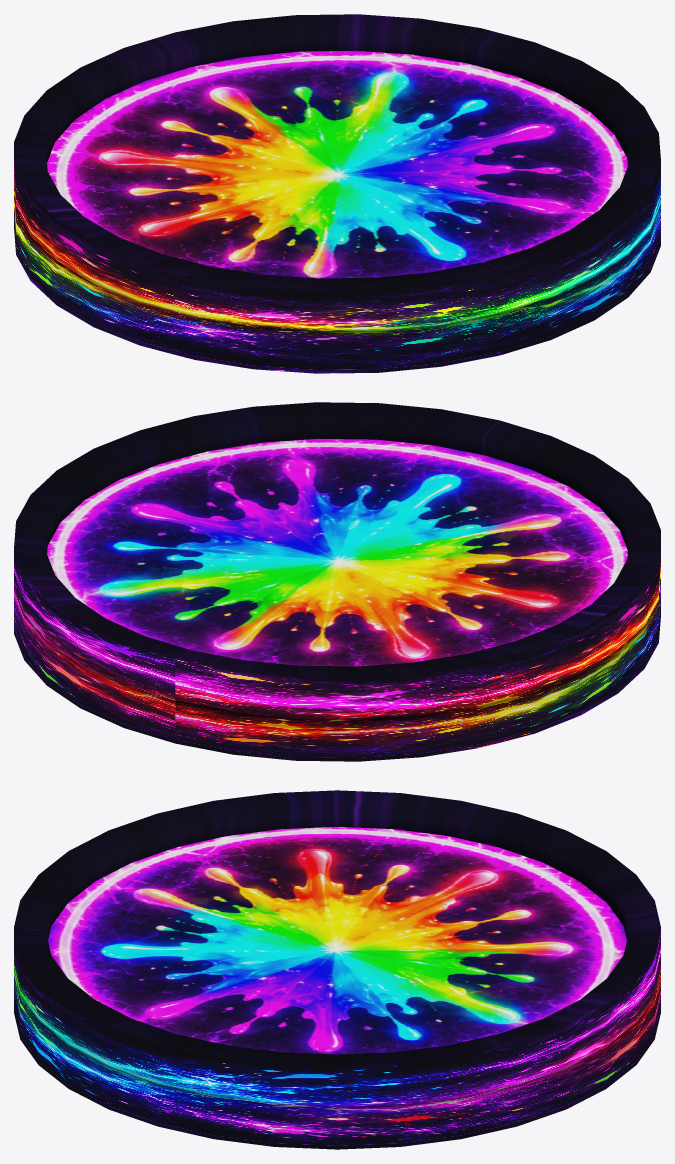
File: puntoMancha.glb
3 renders of one model, top to bottom at view 1: azimuth 30°, elevation 25°; view 2: azimuth 150°, elevation 25°; view 3: azimuth 270°, elevation 25°, orthographic.
Parts seen in each view (by area): view 1: Cilindro.001; view 2: Cilindro.001; view 3: Cilindro.001.
Boxes of the visible parts, left/top/right/bottom form: Cilindro.001: left=14, top=14, right=660, bottom=373; Cilindro.001: left=14, top=402, right=660, bottom=761; Cilindro.001: left=14, top=790, right=660, bottom=1149.
Size of the model in its own units: 2 by 0.2926 by 2.
1 material, 1 textured.
